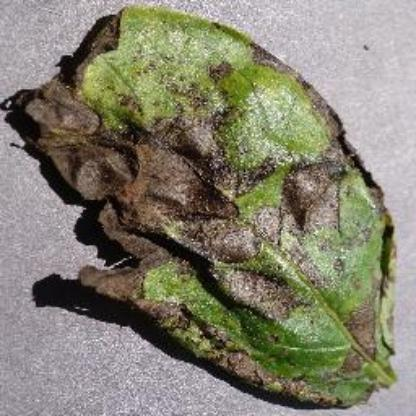Early-Blight: (11, 3, 401, 405)
